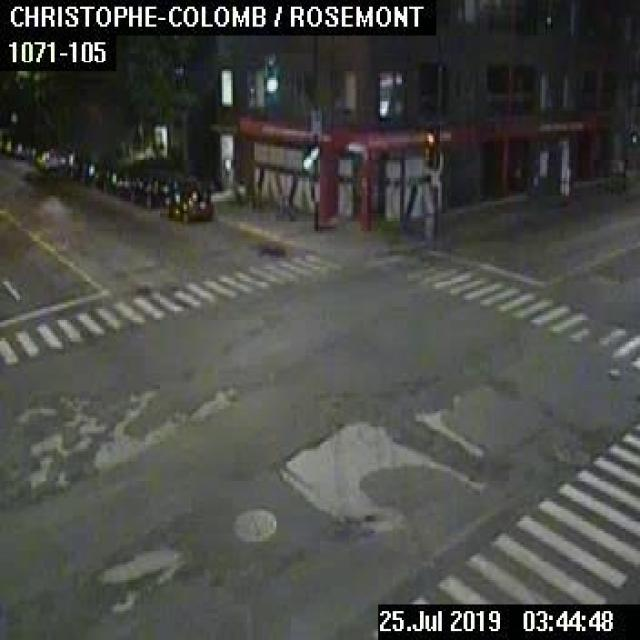vehicle: (163, 180, 211, 222), (129, 174, 165, 208), (102, 169, 129, 192), (36, 150, 59, 168)
